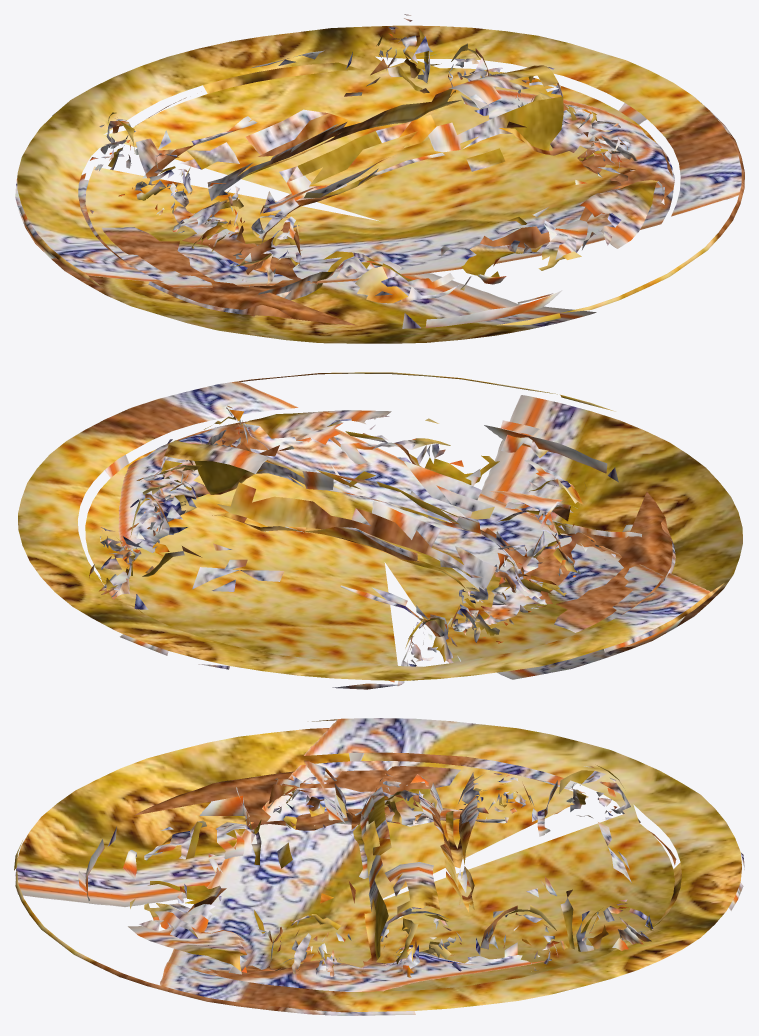
Rendered from enchiladas_suizas.fbx.
3 renders of one model, top to bottom at view 1: azimuth 30°, elevation 25°; view 2: azimuth 150°, elevation 25°; view 3: azimuth 270°, elevation 25°, orthographic.
Parts seen in each view (by area): view 1: meshes[0]; view 2: meshes[0]; view 3: meshes[0].
Boxes of the visible parts, left/top/right/bottom form: meshes[0]: left=15, top=14, right=744, bottom=343; meshes[0]: left=18, top=372, right=742, bottom=689; meshes[0]: left=14, top=718, right=744, bottom=1015.
Size of the model in its own units: 99.8 by 14.26 by 99.8.
